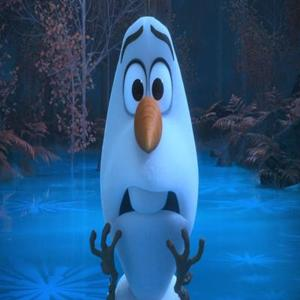olaf: (100, 7, 209, 292)
